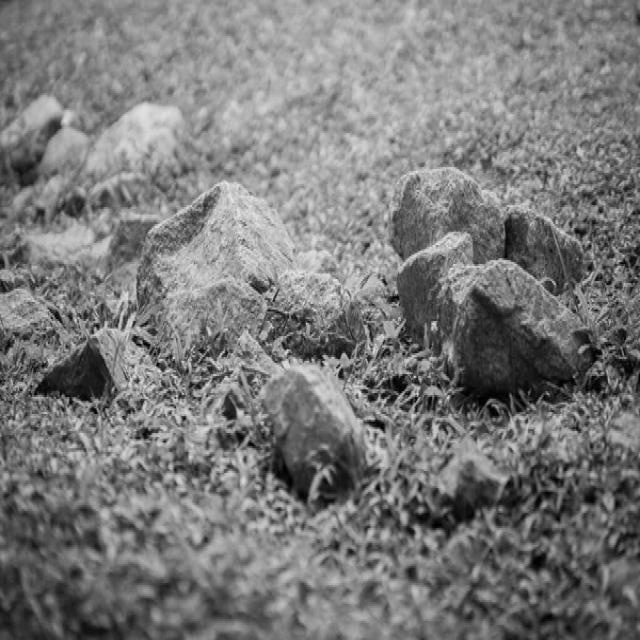Stone: (136, 180, 298, 345), (398, 162, 594, 281), (440, 260, 586, 394), (266, 367, 362, 478), (268, 272, 366, 357), (398, 232, 473, 341)
